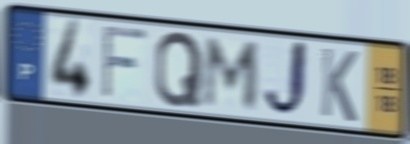4: (48, 16, 94, 103)
F: (99, 23, 150, 103)
J: (260, 37, 310, 123)
K: (318, 44, 360, 126)
M: (200, 34, 263, 112)
Q: (152, 29, 205, 110)
